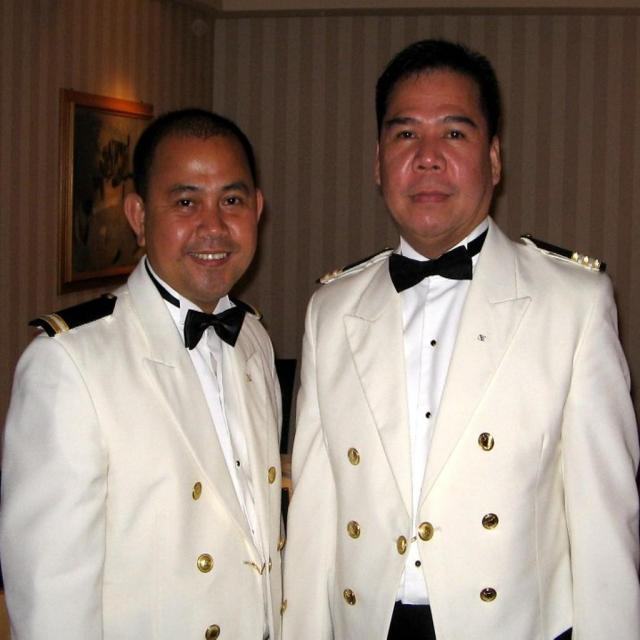nomask: (146, 130, 258, 299), (379, 68, 490, 233)
